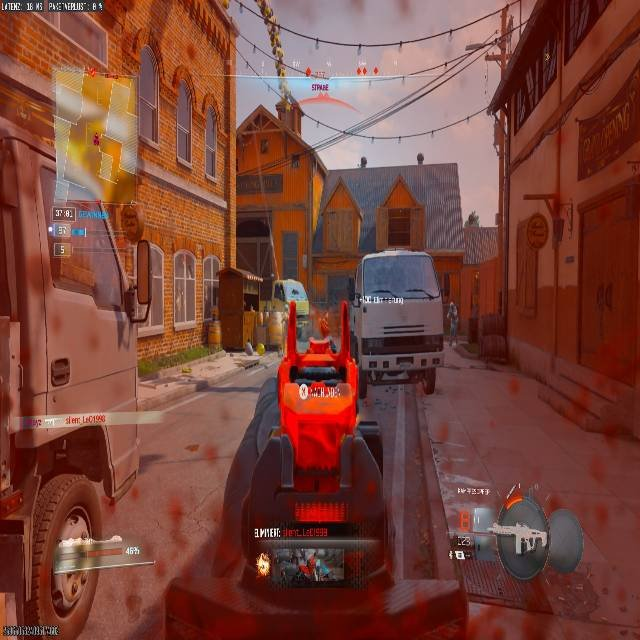player: (357, 156, 368, 167)
